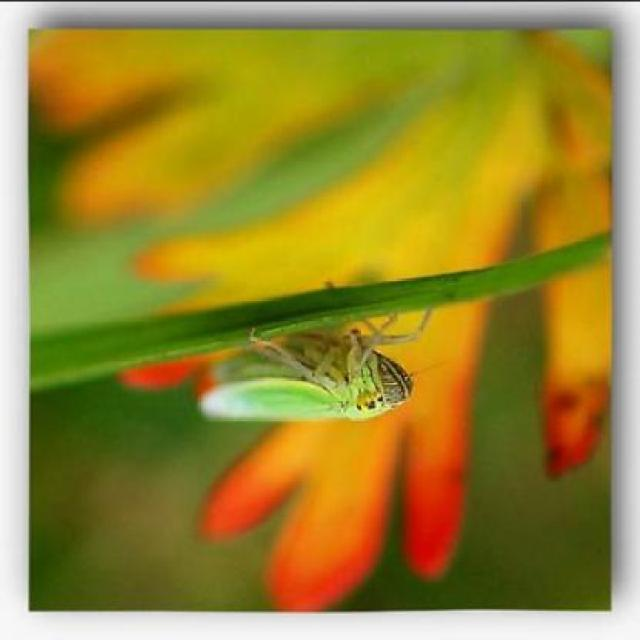green-leafhopper: (197, 328, 415, 426)
